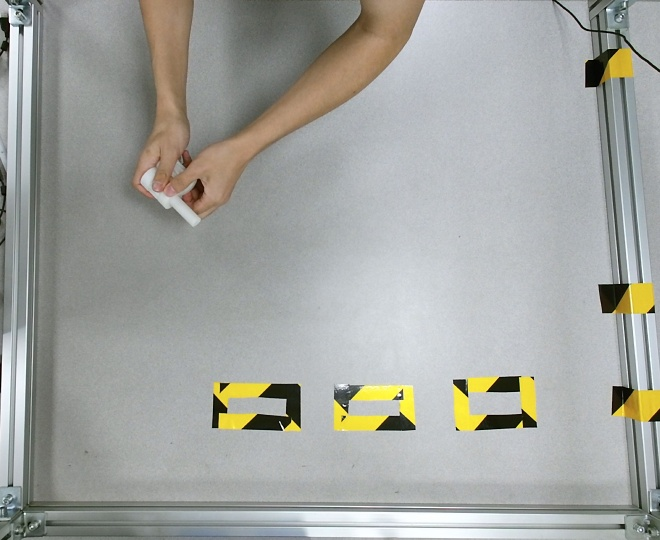stage_4: (142, 156, 201, 229)
